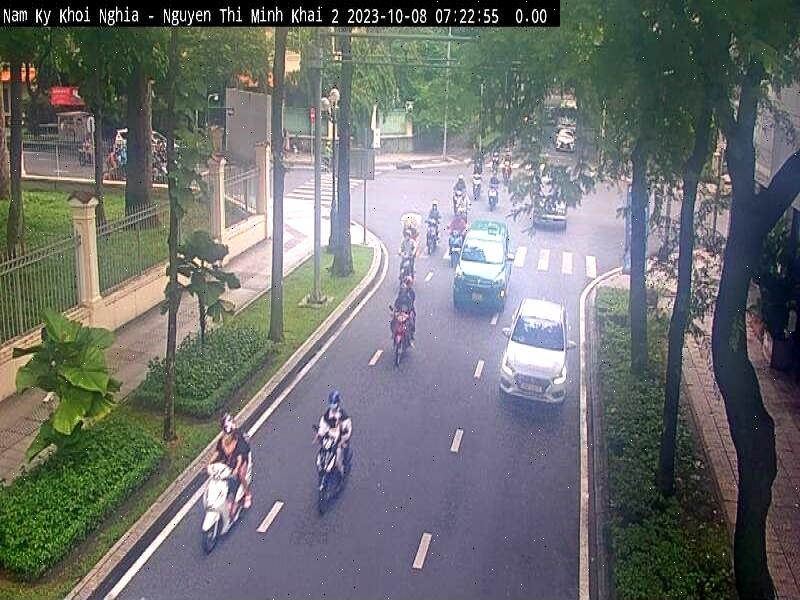car: (501, 297, 570, 407), (454, 219, 510, 314)
motorcycle: (383, 306, 413, 370)
